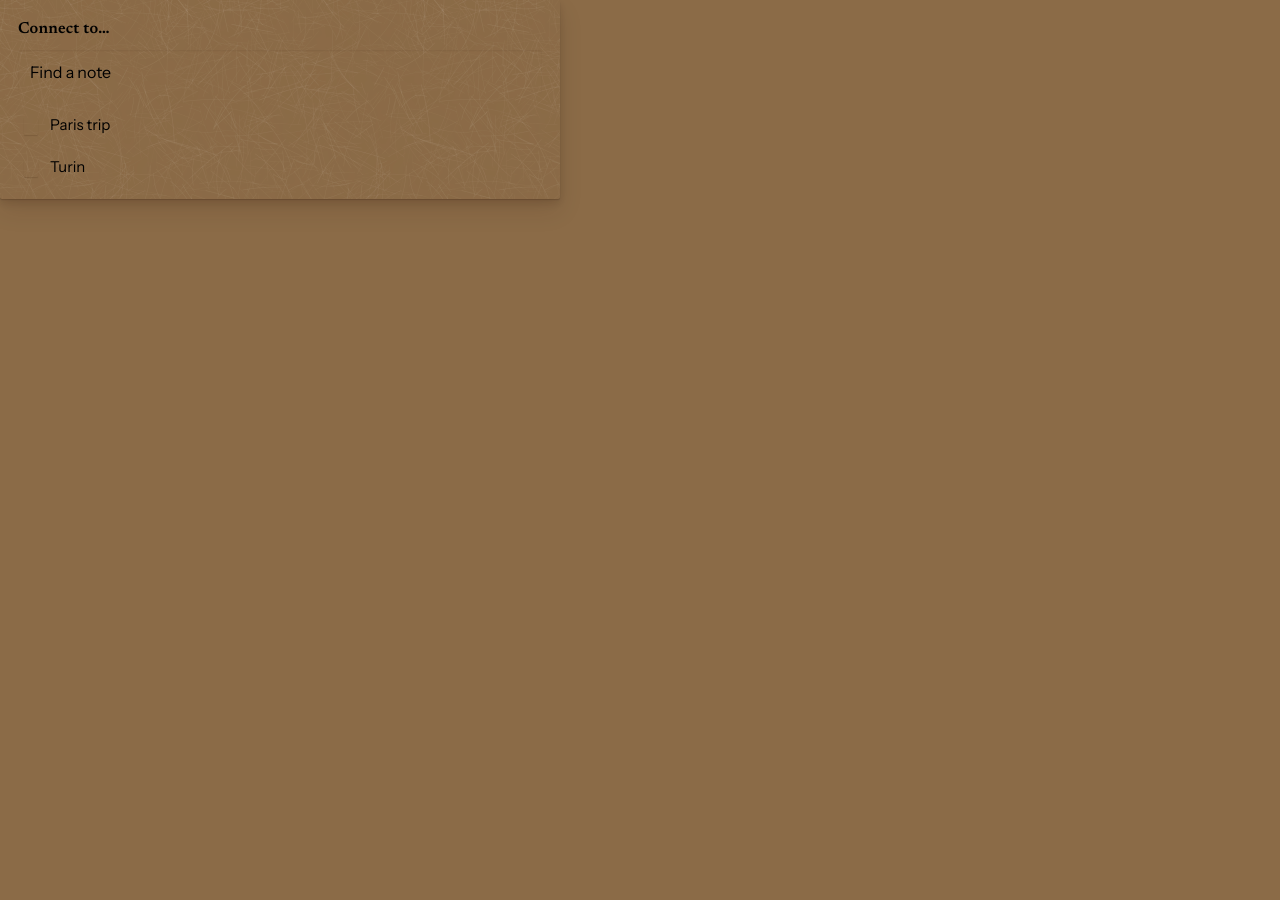
Test case: Picker search › finds a note across width and case (NFKC)
Type "ⓟⓐⓡⓘⓢ" into the dropdown at [280, 72], box left=18, top=50, right=542, bottom=94
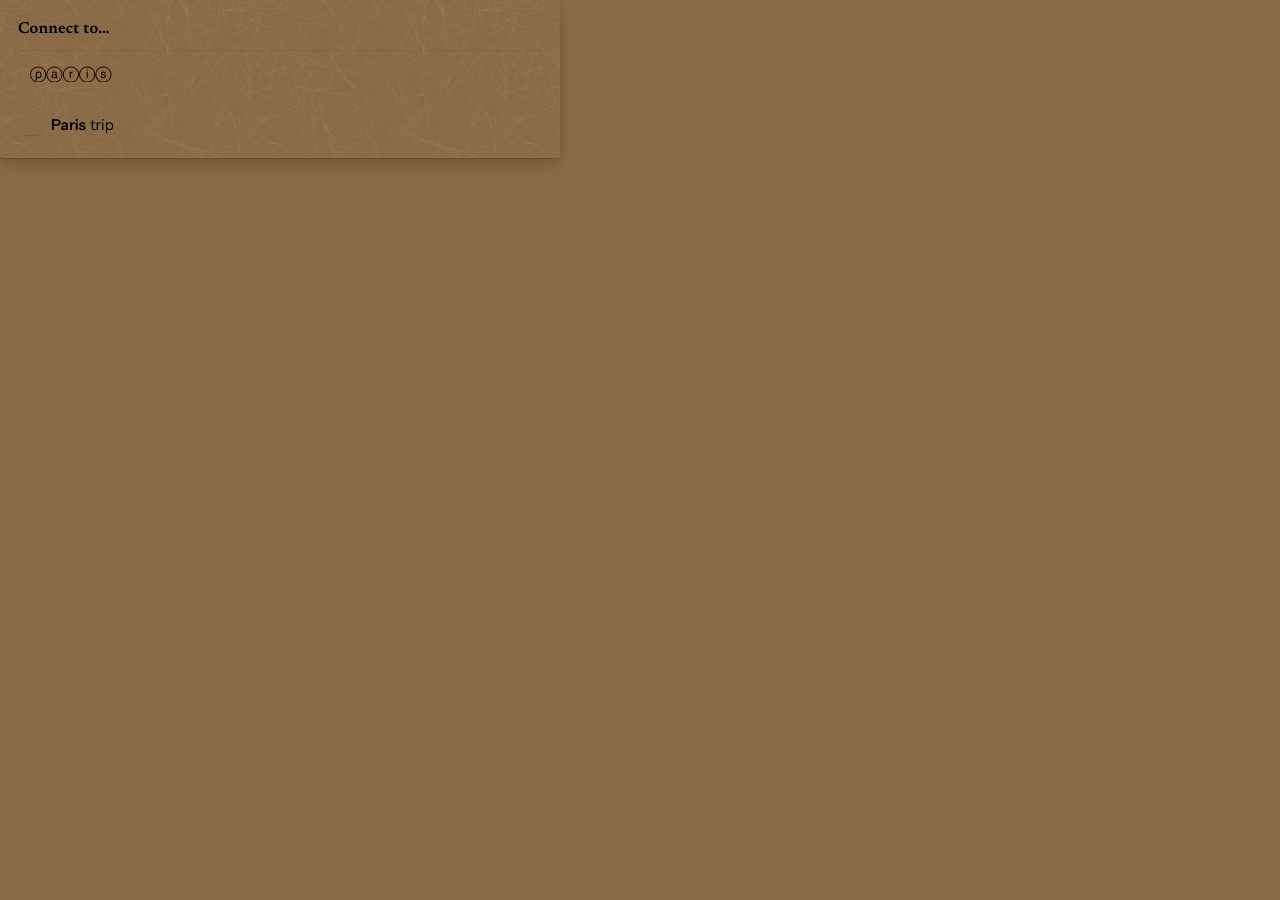
Check: the option reads "Paris trip", box left=24, top=115, right=114, bottom=135
Check: the number of options is 1, box left=24, top=115, right=114, bottom=135
